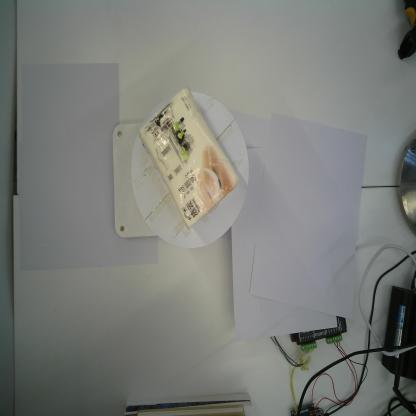Tissue: (138, 84, 240, 231)
